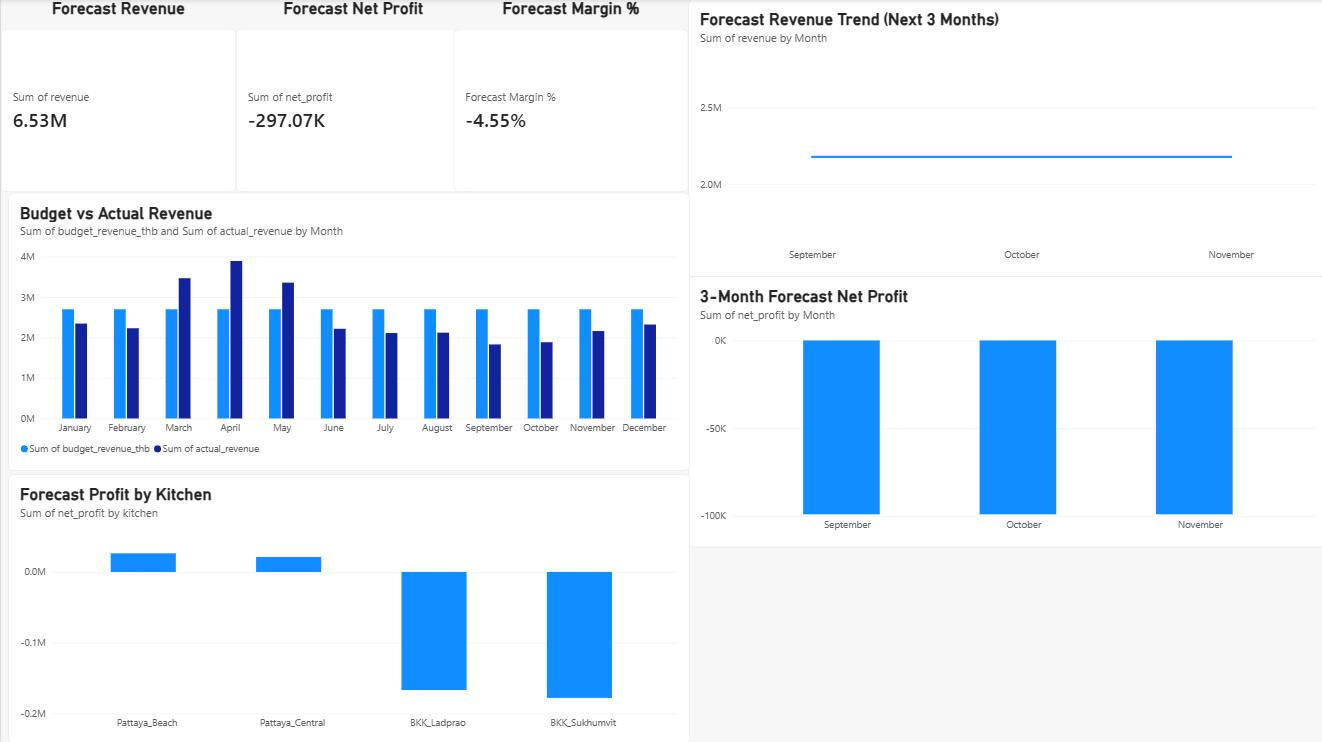

The dashboard page shown, as its layout file describes it:
{"tool":"powerbi","page":{"name":"Forecast & Financial Planning","canvas":[1920,1080],"ordinal":2},"visuals":[{"type":"lineChart","title":"Forecast Revenue Trend (Next 3 Months)","fields":{"Category":["final_forecast_pnl.month.Variation.Date Hierarchy.Month"],"Y":["Sum(final_forecast_pnl.revenue)"]},"box":[996,0,924,402],"z":0},{"type":"clusteredColumnChart","title":"3-Month Forecast Net Profit","fields":{"Category":["final_forecast_pnl.month.Variation.Date Hierarchy.Month"],"Y":["Sum(final_forecast_pnl.net_profit)"]},"box":[996,402,924,392],"z":1000},{"type":"clusteredColumnChart","title":"Forecast Profit by Kitchen","fields":{"Category":["final_forecast_pnl.kitchen"],"Y":["Sum(final_forecast_pnl.net_profit)"]},"box":[10,688,986,392],"z":2000},{"type":"lineClusteredColumnComboChart","title":"Budget vs Actual Revenue","fields":{"Category":["budget_vs_actual.month.Variation.Date Hierarchy.Month"],"Y":["Sum(budget_vs_actual.budget_revenue_thb)","Sum(budget_vs_actual.actual_revenue)"]},"box":[10,280,986,402],"z":3000},{"type":"cardVisual","title":"Forecast Revenue","fields":{"Data":["Sum(final_forecast_pnl.revenue)"]},"box":[0,0,340,280],"z":4000},{"type":"cardVisual","title":"Forecast Net Profit","fields":{"Data":["Sum(final_forecast_pnl.net_profit)"]},"box":[340,0,340,280],"z":5000},{"type":"cardVisual","title":"Forecast Margin %","fields":{"Data":["budget_vs_actual.Forecast Margin %"]},"box":[656,0,340,280],"z":6000}]}

Visuals, with their boxes in screenshot pixels (x1, y1, x2, y2), scaled from the page's 1920x1080 canvas onto the 1322x742 screenshot:
"Forecast Revenue Trend (Next 3 Months)" lineChart: detection(686, 0, 1321, 276)
"3-Month Forecast Net Profit" clusteredColumnChart: detection(686, 276, 1321, 546)
"Forecast Profit by Kitchen" clusteredColumnChart: detection(7, 473, 686, 741)
"Budget vs Actual Revenue" lineClusteredColumnComboChart: detection(7, 192, 686, 469)
"Forecast Revenue" cardVisual: detection(0, 0, 234, 192)
"Forecast Net Profit" cardVisual: detection(234, 0, 468, 192)
"Forecast Margin %" cardVisual: detection(452, 0, 686, 192)
